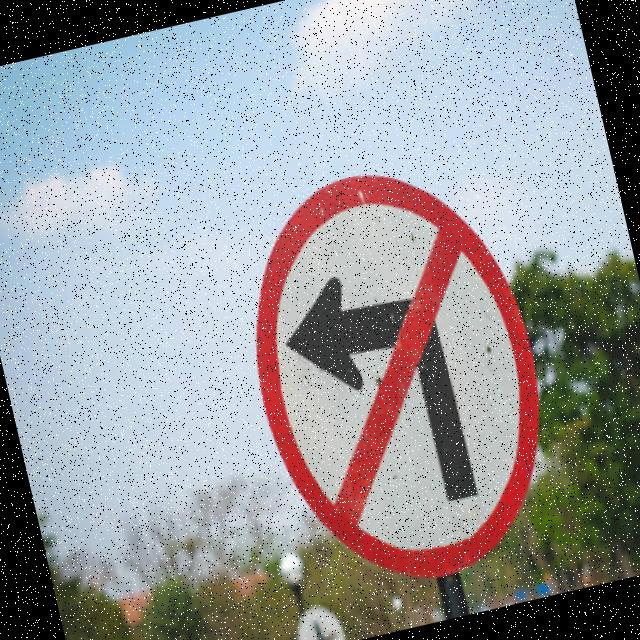do_not_turn_right: (212, 133, 594, 616)
